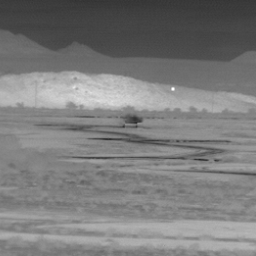Target: (169, 85, 177, 92)
